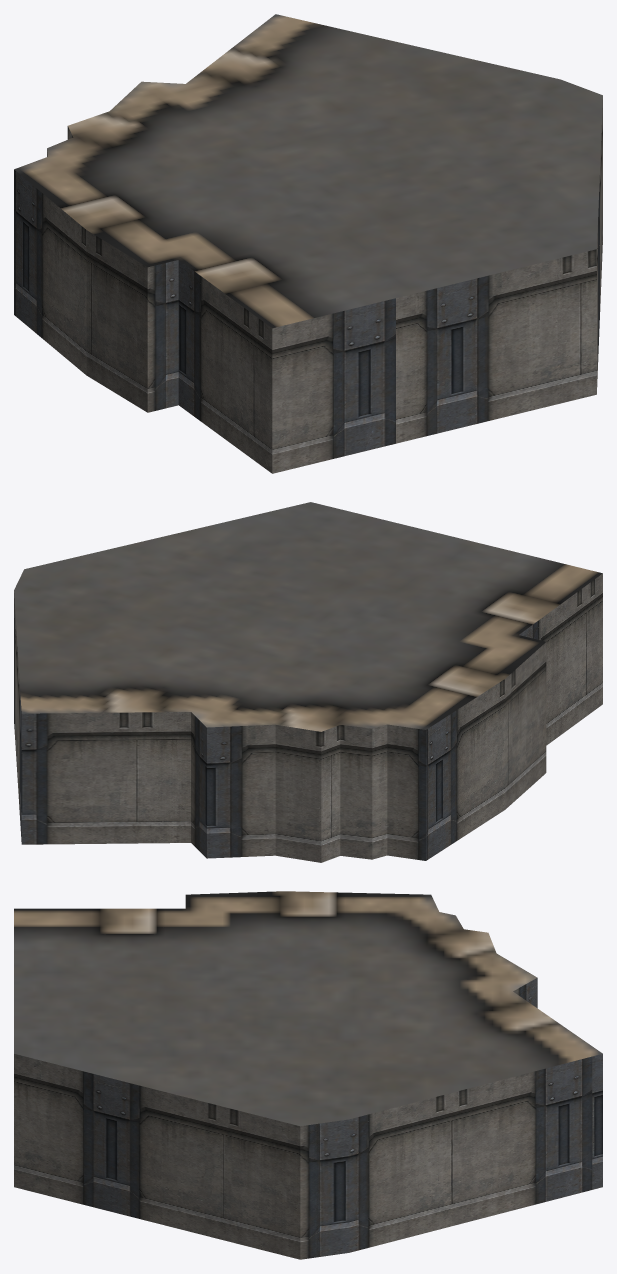
Rendered from building_heavy_14.glb.
3 renders of one model, top to bottom at view 1: azimuth 30°, elevation 25°; view 2: azimuth 150°, elevation 25°; view 3: azimuth 270°, elevation 25°, orthographic. The views are drawn at different scales.
Visible parts, largest first — view 1: buildings/saxarba/building_heavy/building_heavy_14; view 2: buildings/saxarba/building_heavy/building_heavy_14; view 3: buildings/saxarba/building_heavy/building_heavy_14.
Boxes of the visible parts, bbox=[...] form: buildings/saxarba/building_heavy/building_heavy_14: bbox=[14, 14, 602, 473]; buildings/saxarba/building_heavy/building_heavy_14: bbox=[14, 502, 602, 862]; buildings/saxarba/building_heavy/building_heavy_14: bbox=[14, 891, 602, 1259].
Size of the model in its own units: 68 by 18 by 72.
